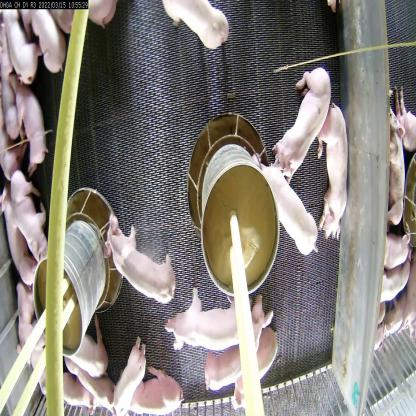Pig: (106, 200, 189, 314), (272, 63, 326, 182), (308, 93, 352, 236), (167, 290, 257, 358), (2, 171, 56, 277), (94, 333, 158, 415), (198, 336, 282, 394), (0, 0, 52, 93), (258, 173, 312, 261), (8, 79, 50, 178), (26, 0, 78, 69), (119, 369, 191, 416)
